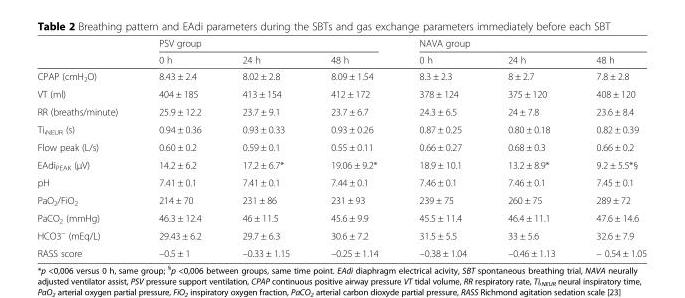table: (36, 37, 646, 258)
table column: (36, 37, 137, 258), (309, 37, 398, 258), (486, 37, 575, 258), (221, 37, 309, 258), (398, 37, 486, 258), (137, 37, 221, 258), (575, 37, 646, 258)
table column header: (36, 37, 646, 67)
table row: (36, 225, 646, 244), (36, 67, 646, 85), (36, 102, 646, 120), (36, 120, 646, 138), (36, 155, 646, 173), (36, 173, 646, 191), (36, 191, 646, 209), (36, 85, 646, 102), (36, 138, 646, 155), (36, 51, 646, 67), (36, 209, 646, 225), (36, 37, 646, 51), (36, 244, 646, 258)
table spanning cell: (137, 37, 398, 51), (398, 37, 646, 51)
